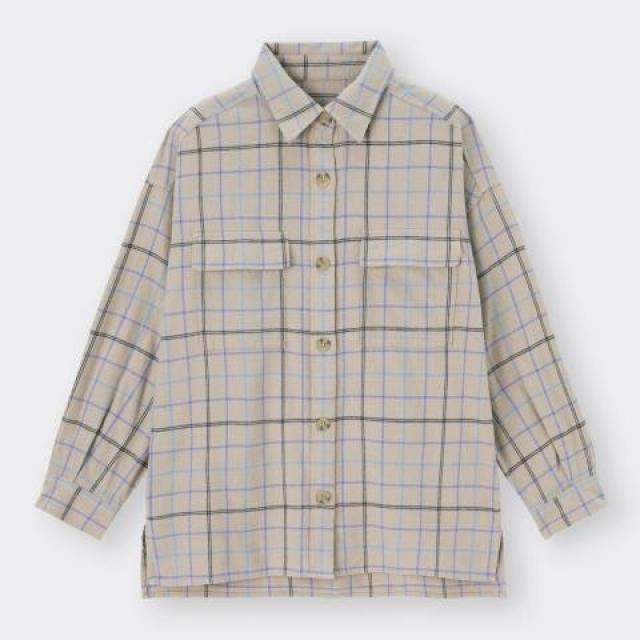plaid: (37, 26, 613, 605)
